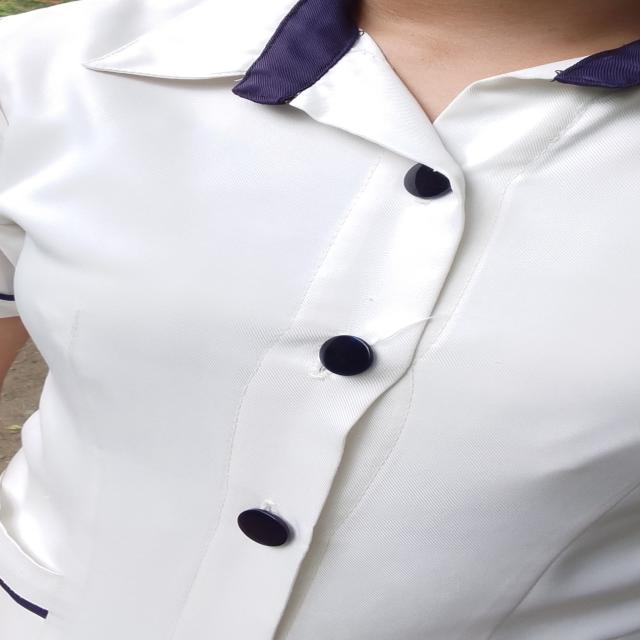education_female_uniform: (8, 5, 640, 640)
